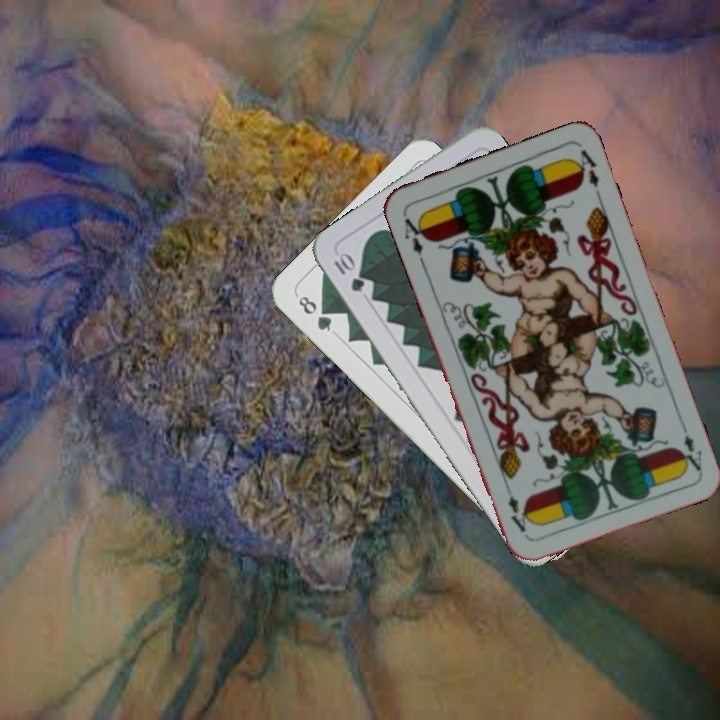EA: (675, 417, 705, 474), (399, 209, 430, 258)
G10: (330, 249, 368, 295)
G8: (294, 291, 335, 335)
